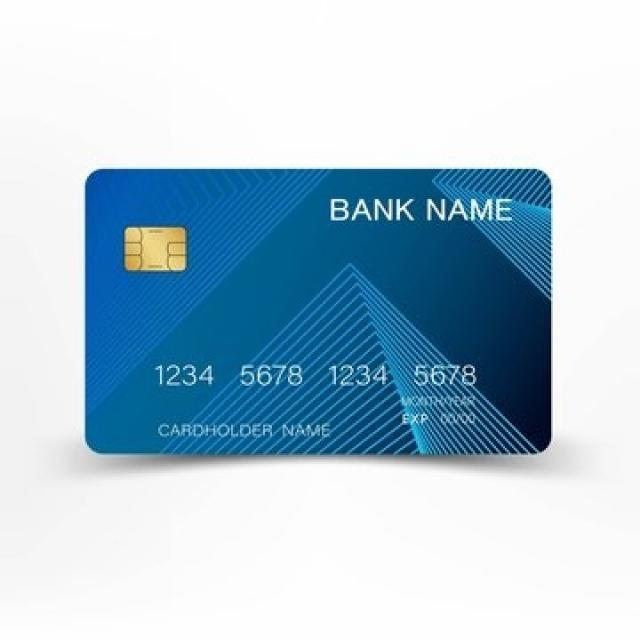payment_card: (83, 166, 553, 457)
